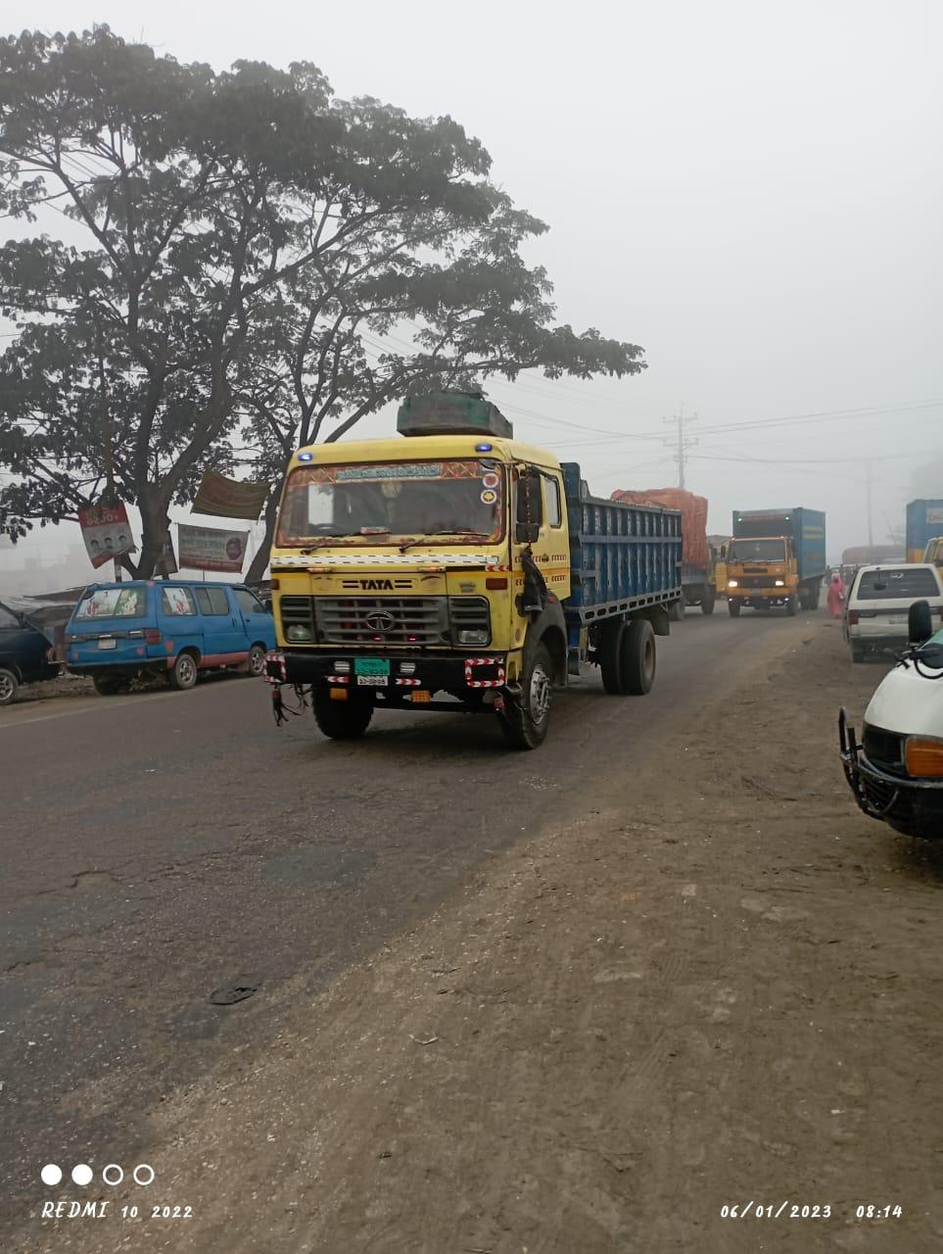Car: (61, 576, 274, 687), (842, 553, 943, 659)
Truck: (256, 389, 695, 738), (711, 481, 831, 627)
